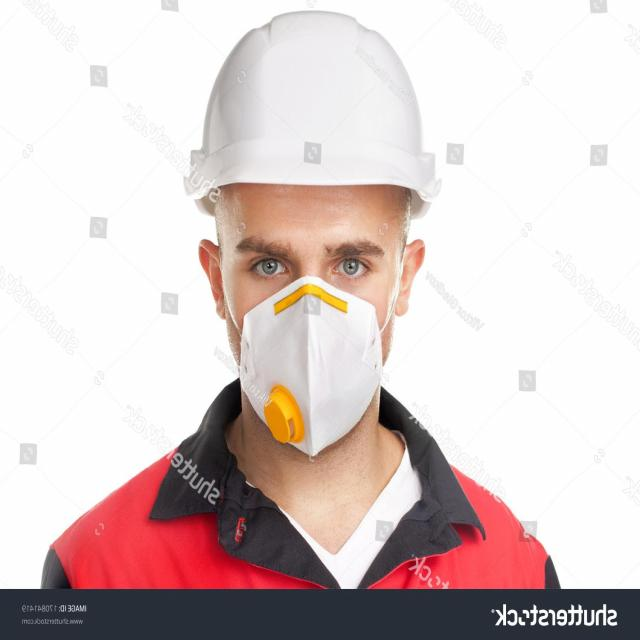Reflective-Jacket: (44, 442, 566, 586)
Safety-Helmet: (196, 8, 442, 198)
